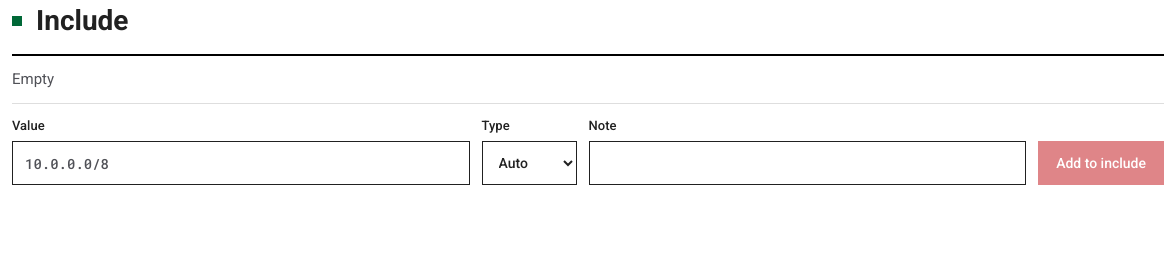
it: duplicate targets › shows the same conflict by a scope list form
The image size is (1176, 254).
Type "10.0.0.1" into the field labelled "Value".
click(241, 163); type("10.0.0.1")  # box [12, 141, 470, 185]
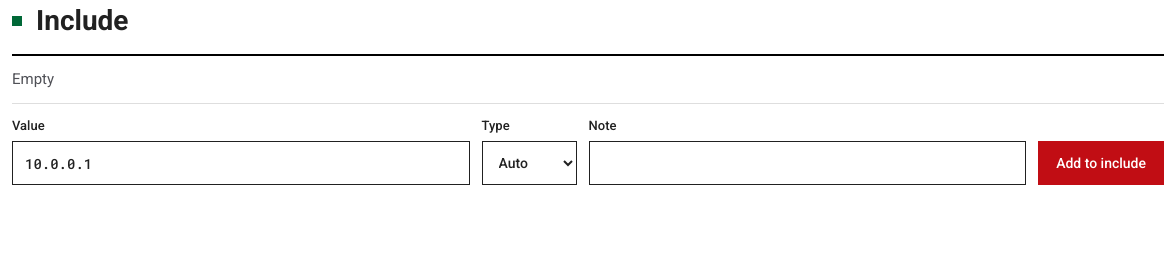
Click the button "Add to include".
click(1101, 163)  # box [1038, 141, 1164, 185]
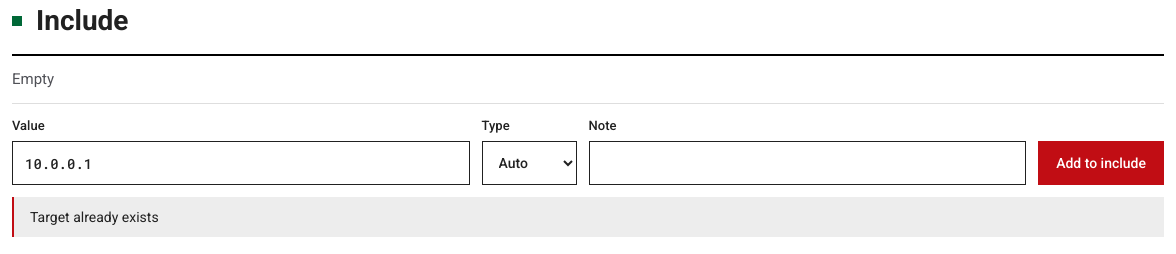
Check: the message reads "Target already exists", box [30, 209, 159, 225]
